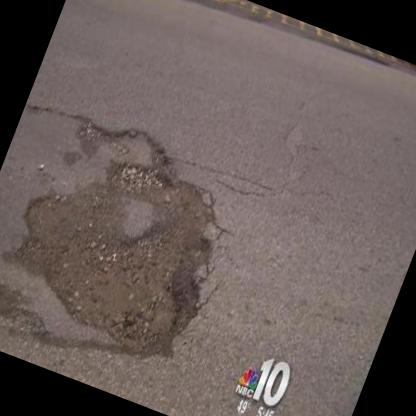pothole: (0, 100, 248, 366)
